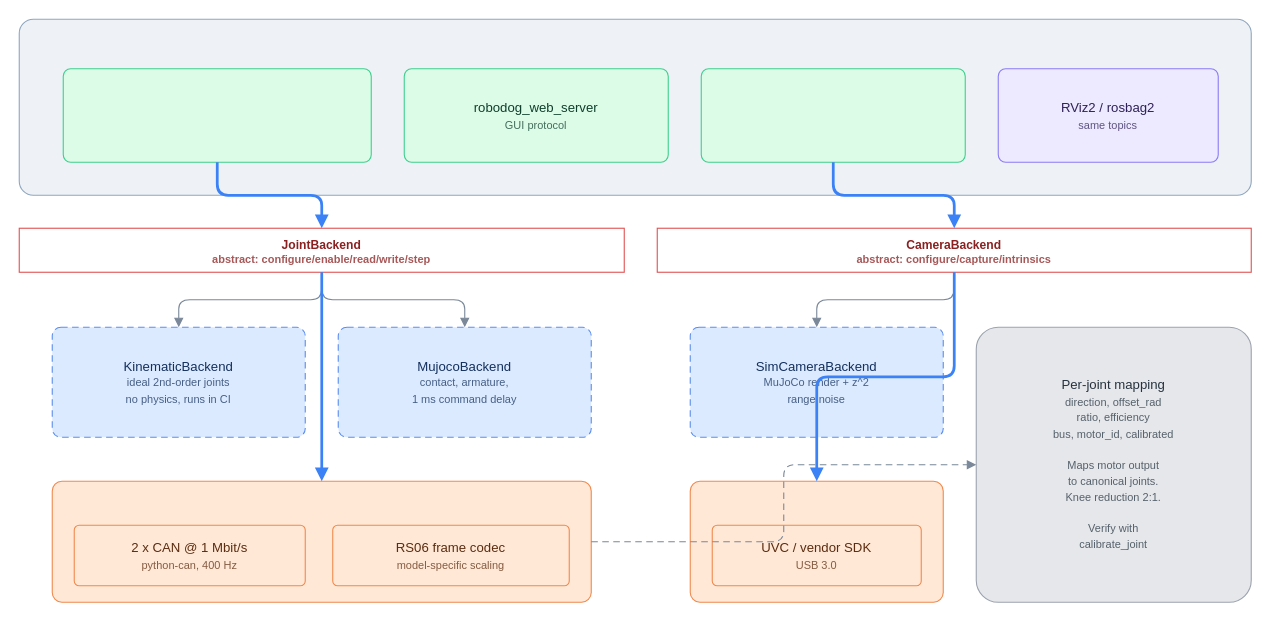
This 1271x622 diagram has some shape labels left out. Here are the shapes that lost their labels. From the top down, the box of each, then its label:
(62, 68, 371, 162): robodog_control_node loop, safety, gait, balance, estimator
(18, 18, 1251, 195): UNCHANGED BY THE SWAP
(700, 68, 965, 162): robodog_camera_node publishes RGB-D
(51, 480, 591, 602): RobStride06Backend
(689, 480, 943, 602): NuwaHP60CBackend
